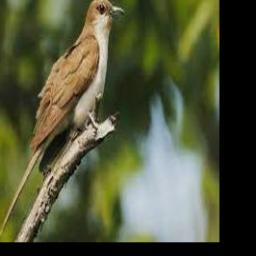Cuckoo: (0, 0, 125, 239)
